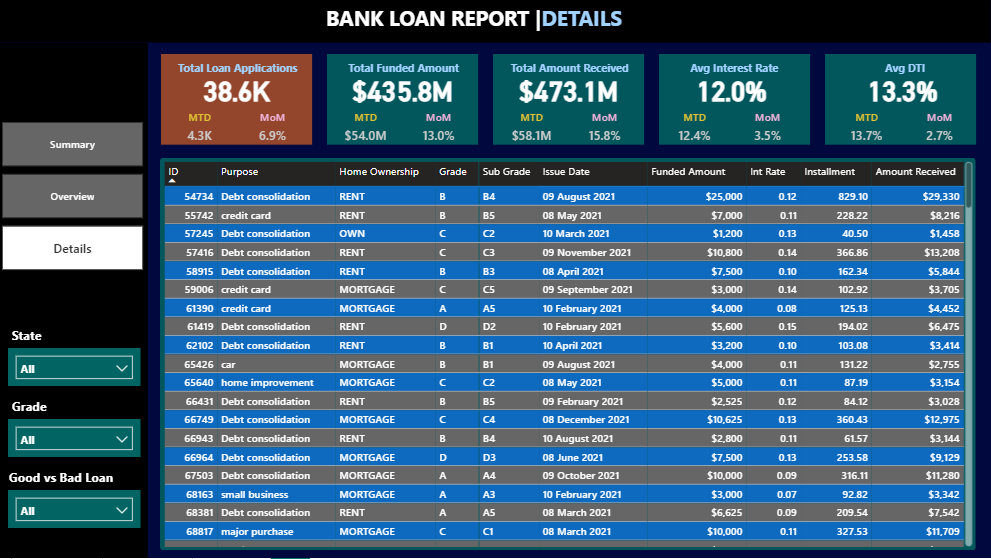

What the dashboard file says about the page in this screenshot:
{"tool":"powerbi","page":{"name":"Details","canvas":[1280,720],"ordinal":2},"visuals":[{"type":"shape","box":[0,0,1279.5,54.9],"z":0},{"type":"shape","box":[208.2,203.9,1052.5,506],"z":1000},{"type":"shape","box":[0,54.9,192,665.1],"z":2000},{"type":"textbox","box":[416.4,0,448.2,54.9],"z":3000},{"type":"shape","box":[208.6,69.4,195.2,117.1],"z":3000,"group":"g1"},{"type":"shape","box":[637.4,69.4,195.2,117.1],"z":3000,"group":"g3"},{"type":"shape","box":[851.8,69.4,195.2,117.1],"z":3000,"group":"g4"},{"type":"shape","box":[1066.1,69.4,195.2,117.1],"z":3000,"group":"g5"},{"type":"shape","box":[423,69.8,195.2,117.1],"z":3000,"group":"g2"},{"type":"group","id":"g1","title":"Group 1","box":[208.6,69.4,195.2,124.3],"z":4000},{"type":"card","fields":{"Values":["Bank_Loan_Data.Total Loan Applications"]},"box":[221.6,78.1,169.2,73.7],"z":4000,"group":"g1"},{"type":"card","fields":{"Values":["Bank_Loan_Data.Total Amount Received"]},"box":[650.4,78.1,169.2,73.7],"z":4000,"group":"g3"},{"type":"card","fields":{"Values":["Bank_Loan_Data.Avg Interest Rate"]},"box":[860.5,78.1,169.2,73.7],"z":4000,"group":"g4"},{"type":"card","fields":{"Values":["Bank_Loan_Data.Avg DTI"]},"box":[1082,78.1,169.2,73.7],"z":4000,"group":"g5"},{"type":"card","fields":{"Values":["Bank_Loan_Data.Total Funded Amount"]},"box":[436,78.5,169.2,73.7],"z":4000,"group":"g2"},{"type":"group","id":"g2","title":"Group 1","box":[423,69.8,195.2,124.3],"z":5000},{"type":"textbox","box":[221.6,72.3,172,37.6],"z":5000,"group":"g1"},{"type":"textbox","box":[650.4,72.3,172,37.6],"z":5000,"group":"g3"},{"type":"textbox","box":[860.5,72.3,172,37.6],"z":5000,"group":"g4"},{"type":"textbox","box":[1082,72.3,172,37.6],"z":5000,"group":"g5"},{"type":"textbox","box":[436,72.7,172,37.6],"z":5000,"group":"g2"},{"type":"group","id":"g3","title":"Group 1","box":[637.4,69.4,195.2,124.3],"z":6000},{"type":"card","title":"MTD","fields":{"Values":["Bank_Loan_Data.MTD Loan Applications"]},"box":[214.4,141.7,89.6,52],"z":6000,"group":"g1"},{"type":"card","title":"MTD","fields":{"Values":["Bank_Loan_Data.MTD Amount Received"]},"box":[643.2,141.7,89.6,52],"z":6000,"group":"g3"},{"type":"card","title":"MTD","fields":{"Values":["Bank_Loan_Data.MTD Avg Int Rate"]},"box":[853.2,141.7,89.6,52],"z":6000,"group":"g4"},{"type":"card","title":"MTD","fields":{"Values":["Bank_Loan_Data.MTD Avg DTI"]},"box":[1074.8,141.7,89.6,52],"z":6000,"group":"g5"},{"type":"card","title":"MTD","fields":{"Values":["Bank_Loan_Data.MTD Funded Amount"]},"box":[428.8,142.1,89.6,52],"z":6000,"group":"g2"},{"type":"group","id":"g4","title":"Group 1","box":[851.8,69.4,195.2,124.3],"z":7000},{"type":"card","title":"MoM","fields":{"Values":["Bank_Loan_Data.MoM Loan Applications"]},"box":[308.4,141.7,89.6,52],"z":7000,"group":"g1"},{"type":"card","title":"MoM","fields":{"Values":["Bank_Loan_Data.MoM Total Amount Received"]},"box":[737.2,141.7,89.6,52],"z":7000,"group":"g3"},{"type":"card","title":"MoM","fields":{"Values":["Bank_Loan_Data.MoM Avg Int Rate"]},"box":[947.2,141.7,89.6,52],"z":7000,"group":"g4"},{"type":"card","title":"MoM","fields":{"Values":["Bank_Loan_Data.MoM Avg DTI"]},"box":[1168.8,141.7,89.6,52],"z":7000,"group":"g5"},{"type":"card","title":"MoM","fields":{"Values":["Bank_Loan_Data.MoM Total Funded Amount"]},"box":[522.8,142.1,89.6,52],"z":7000,"group":"g2"},{"type":"group","id":"g5","title":"Group 1","box":[1066.1,69.4,195.2,124.3],"z":8000},{"type":"group","id":"g6","title":"Group 3","box":[11.6,416.4,170.6,81],"z":9000},{"type":"textbox","box":[11.6,416.4,63.6,39],"z":9000,"group":"g6"},{"type":"textbox","box":[11.6,508.9,63.6,39],"z":9000,"group":"g8"},{"type":"textbox","box":[7.9,600,164.8,39],"z":9000,"group":"g7"},{"type":"group","id":"g7","title":"Group 3","box":[7.9,600,174.3,80.8],"z":10000},{"type":"group","id":"g8","title":"Group 4","box":[11.6,508.9,170.6,81],"z":11000},{"type":"tableEx","fields":{"Values":["Bank_Loan_Data.id","Bank_Loan_Data.purpose","Bank_Loan_Data.home_ownership","Bank_Loan_Data.grade","Bank_Loan_Data.sub_grade","Bank_Loan_Data.issue_date","Bank_Loan_Data.Total Funded Amount","Sum(Bank_Loan_Data.int_rate)","Sum(Bank_Loan_Data.installment)","Bank_Loan_Data.Total Amount Received"]},"box":[208.2,203.9,1052.5,506],"z":12000},{"type":"pageNavigator","box":[4.3,157.6,182.2,192.3],"z":13000},{"type":"slicer","fields":{"Values":["Bank_Loan_Data.address_state"]},"box":[11.6,448.2,170.6,49.2],"z":14000,"group":"g6"},{"type":"slicer","fields":{"Values":["Bank_Loan_Data.grade"]},"box":[11.6,540.7,170.6,49.2],"z":14000,"group":"g8"},{"type":"slicer","fields":{"Values":["Bank_Loan_Data.Good vs Bad Loan"]},"box":[11.6,631.6,170.6,49.2],"z":14000,"group":"g7"}]}

Visuals, with their boxes in screenshot pixels (x1, y1, x2, y2), scaled from the page's 1280x720 canvas onto the 991x559 screenshot:
shape: select_region(0, 0, 990, 43)
shape: select_region(161, 158, 976, 551)
shape: select_region(0, 43, 149, 558)
textbox: select_region(322, 0, 669, 43)
shape: select_region(162, 54, 313, 145)
shape: select_region(493, 54, 645, 145)
shape: select_region(659, 54, 811, 145)
shape: select_region(825, 54, 977, 145)
shape: select_region(327, 54, 479, 145)
"Group 1" group: select_region(162, 54, 313, 150)
card - Bank_Loan_Data.Total Loan Applications: select_region(172, 61, 303, 118)
card - Bank_Loan_Data.Total Amount Received: select_region(504, 61, 635, 118)
card - Bank_Loan_Data.Avg Interest Rate: select_region(666, 61, 797, 118)
card - Bank_Loan_Data.Avg DTI: select_region(838, 61, 969, 118)
card - Bank_Loan_Data.Total Funded Amount: select_region(338, 61, 469, 118)
"Group 1" group: select_region(327, 54, 479, 151)
textbox: select_region(172, 56, 305, 85)
textbox: select_region(504, 56, 637, 85)
textbox: select_region(666, 56, 799, 85)
textbox: select_region(838, 56, 971, 85)
textbox: select_region(338, 56, 471, 86)
"Group 1" group: select_region(493, 54, 645, 150)
"MTD" card: select_region(166, 110, 235, 150)
"MTD" card: select_region(498, 110, 567, 150)
"MTD" card: select_region(661, 110, 730, 150)
"MTD" card: select_region(832, 110, 902, 150)
"MTD" card: select_region(332, 110, 401, 151)
"Group 1" group: select_region(659, 54, 811, 150)
"MoM" card: select_region(239, 110, 308, 150)
"MoM" card: select_region(571, 110, 640, 150)
"MoM" card: select_region(733, 110, 803, 150)
"MoM" card: select_region(905, 110, 974, 150)
"MoM" card: select_region(405, 110, 474, 151)
"Group 1" group: select_region(825, 54, 977, 150)
"Group 3" group: select_region(9, 323, 141, 386)
textbox: select_region(9, 323, 58, 354)
textbox: select_region(9, 395, 58, 425)
textbox: select_region(6, 466, 134, 496)
"Group 3" group: select_region(6, 466, 141, 529)
"Group 4" group: select_region(9, 395, 141, 458)
tableEx - Bank_Loan_Data.id x Bank_Loan_Data.purpose: select_region(161, 158, 976, 551)
pageNavigator: select_region(3, 122, 144, 272)
slicer - Bank_Loan_Data.address_state: select_region(9, 348, 141, 386)
slicer - Bank_Loan_Data.grade: select_region(9, 420, 141, 458)
slicer - Bank_Loan_Data.Good vs Bad Loan: select_region(9, 490, 141, 529)
